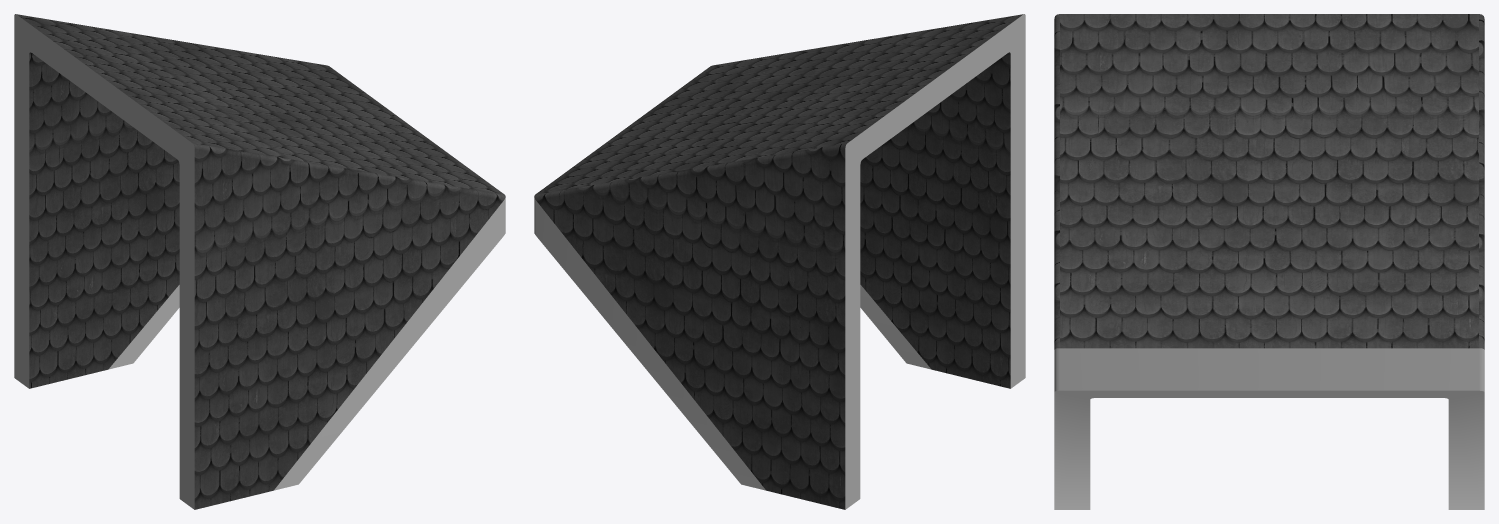
The model's file is SM_FrontWallRoof_A_004.FBX.
3 renders of one model, left to right at view 1: azimuth 30°, elevation 25°; view 2: azimuth 150°, elevation 25°; view 3: azimuth 270°, elevation 25°, orthographic. The views are drawn at different scales.
Visible parts, largest first — view 1: SM_FrontWallRoof_A_004; view 2: SM_FrontWallRoof_A_004; view 3: SM_FrontWallRoof_A_004.
Part boxes in pixels (x1,y1,x2,y2): SM_FrontWallRoof_A_004: (14, 14, 505, 509); SM_FrontWallRoof_A_004: (534, 14, 1025, 509); SM_FrontWallRoof_A_004: (1054, 14, 1484, 509).
Bounding box in the file's own units: 600 × 670 × 600.
